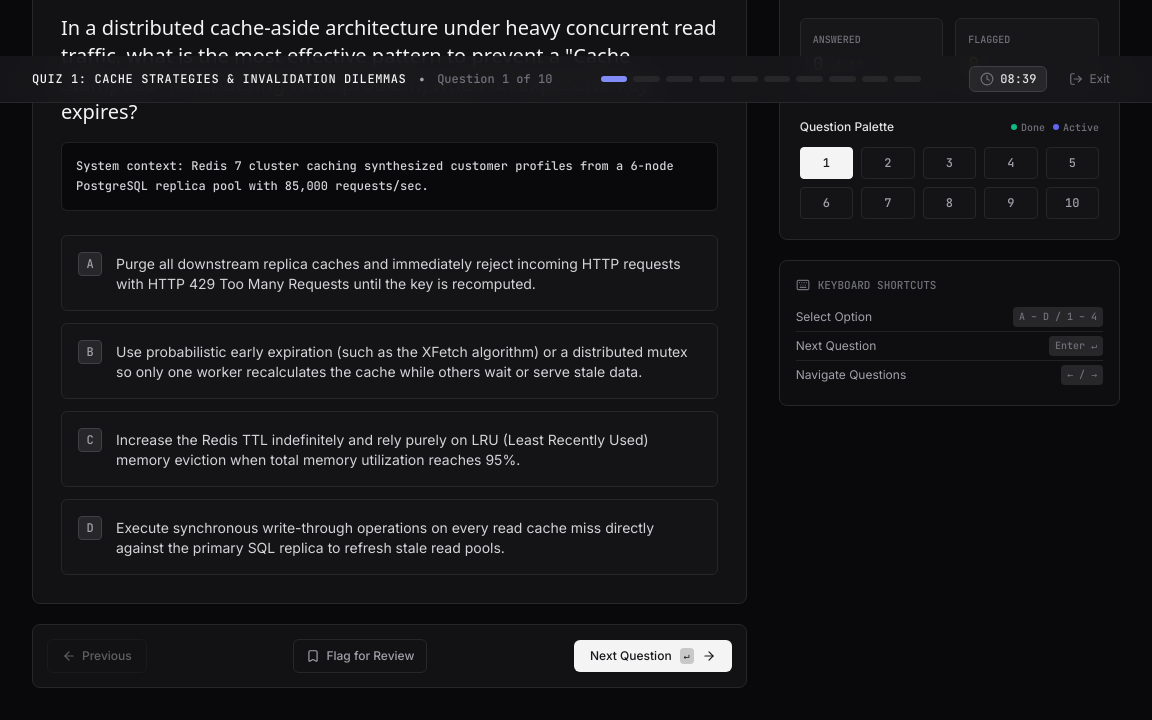
Test: QuizRunnerPage - Mock Mode Enabled (mock=true) › toggles flag for review button
This screenshot has width=1152, height=720.
(page scrolled)
Click the button "Flag for Review".
click(360, 656)  # box [293,639,427,673]
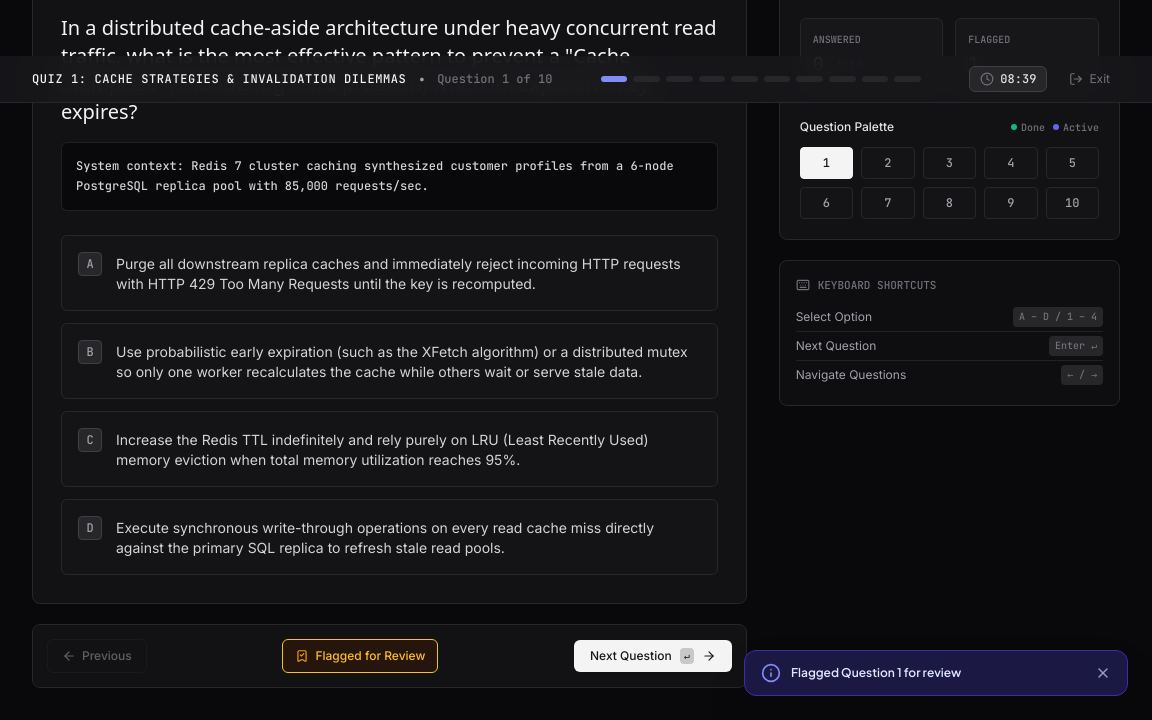
Result: the text "Flagged for Review" is shown at [316,648,425,664]
